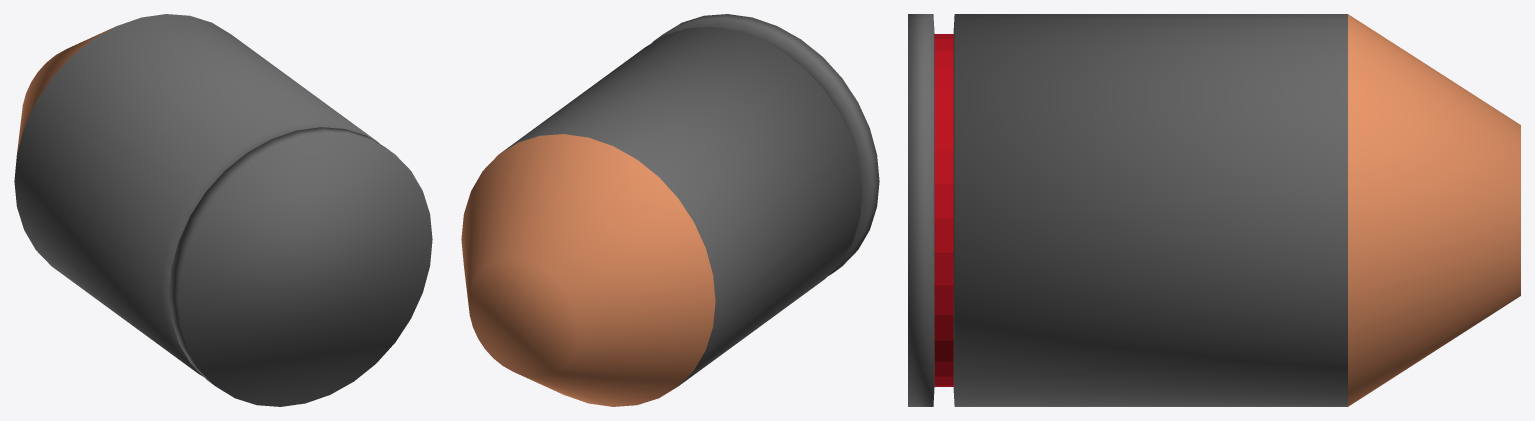
Rendered from PULYA.fbx.
3 views of the same model, side by side, from view 1: azimuth 30°, elevation 25°; view 2: azimuth 150°, elevation 25°; view 3: azimuth 270°, elevation 25° (orthographic). The views are drawn at different scales.
Parts seen in each view (by area): view 1: Pulya; view 2: Pulya; view 3: Pulya.
Part boxes in pixels (left/top/right/bottom): Pulya: left=14, top=14, right=432, bottom=406; Pulya: left=461, top=14, right=879, bottom=406; Pulya: left=908, top=14, right=1520, bottom=406.
Size of the model in its own units: 62.19 by 62.19 by 96.86.
